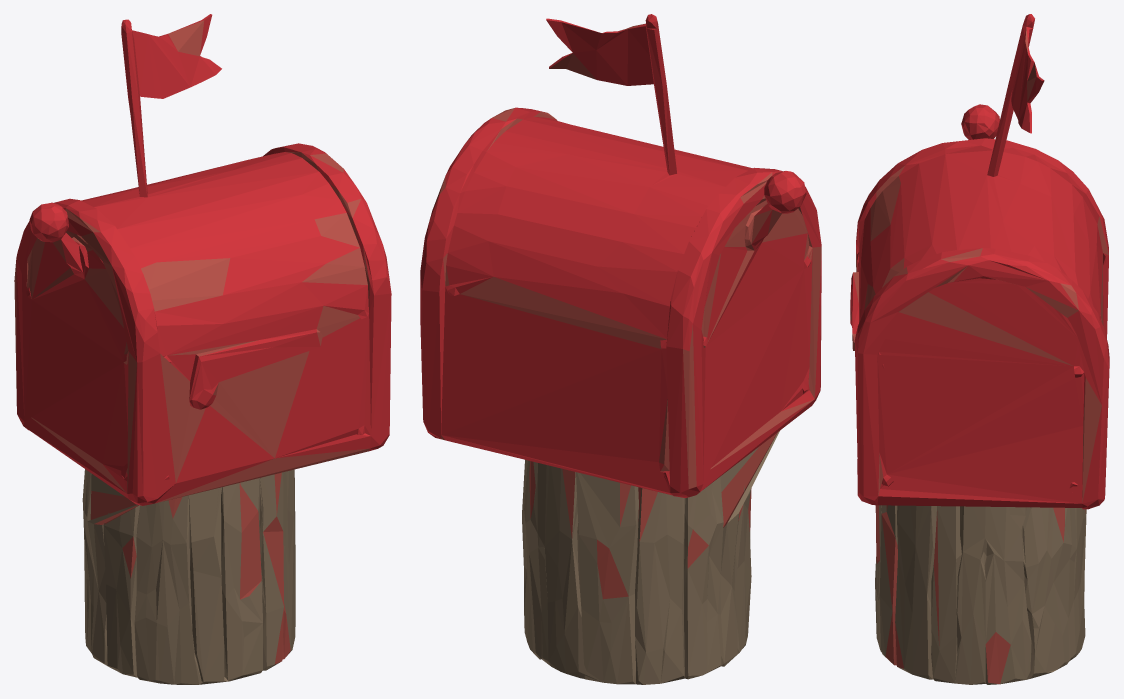
The model's file is mailbox.glb.
3 views of the same model, side by side, from view 1: azimuth 30°, elevation 25°; view 2: azimuth 150°, elevation 25°; view 3: azimuth 270°, elevation 25° (orthographic). The views are drawn at different scales.
Parts seen in each view (by area): view 1: geometry_0; view 2: geometry_0; view 3: geometry_0.
Boxes of the visible parts, x1=… form: geometry_0: x1=14, y1=14, x2=391, y2=684; geometry_0: x1=420, y1=14, x2=821, y2=684; geometry_0: x1=850, y1=14, x2=1109, y2=684.
Size of the model in its own units: 0.8687 by 1.7 by 0.6569.
